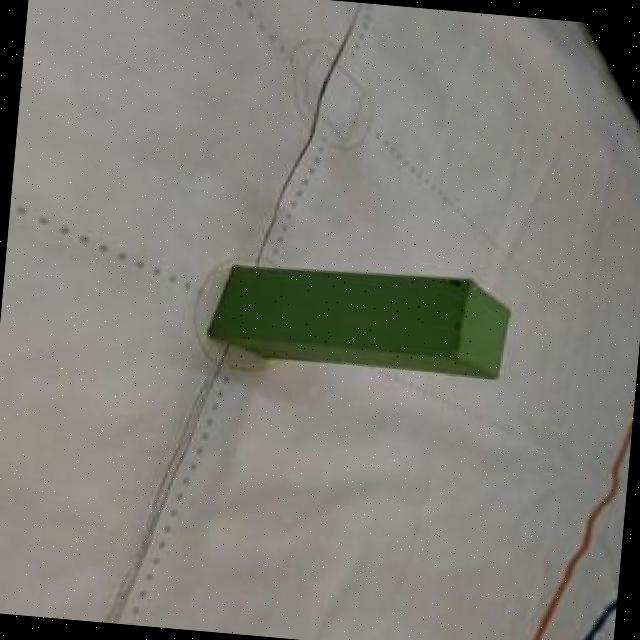greenbox: (204, 254, 513, 386)
